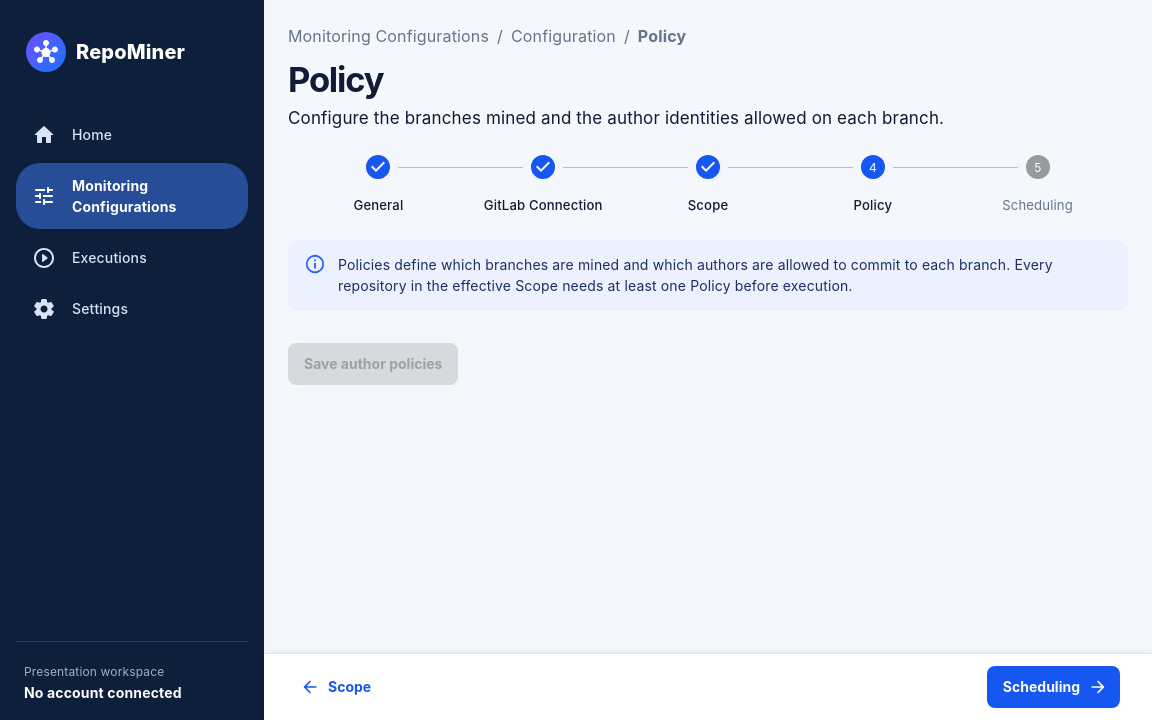
Scenario: returns a newly created configuration flow to the list only after final schedule save succeeds
The width and height of the screenshot is (1152, 720).
Expected: the heading "Policy" is shown, [288,60,383,100]
Click the button with aria-label "Next step: Scheduling": {"x": 1053, "y": 687} [987,666,1120,708]
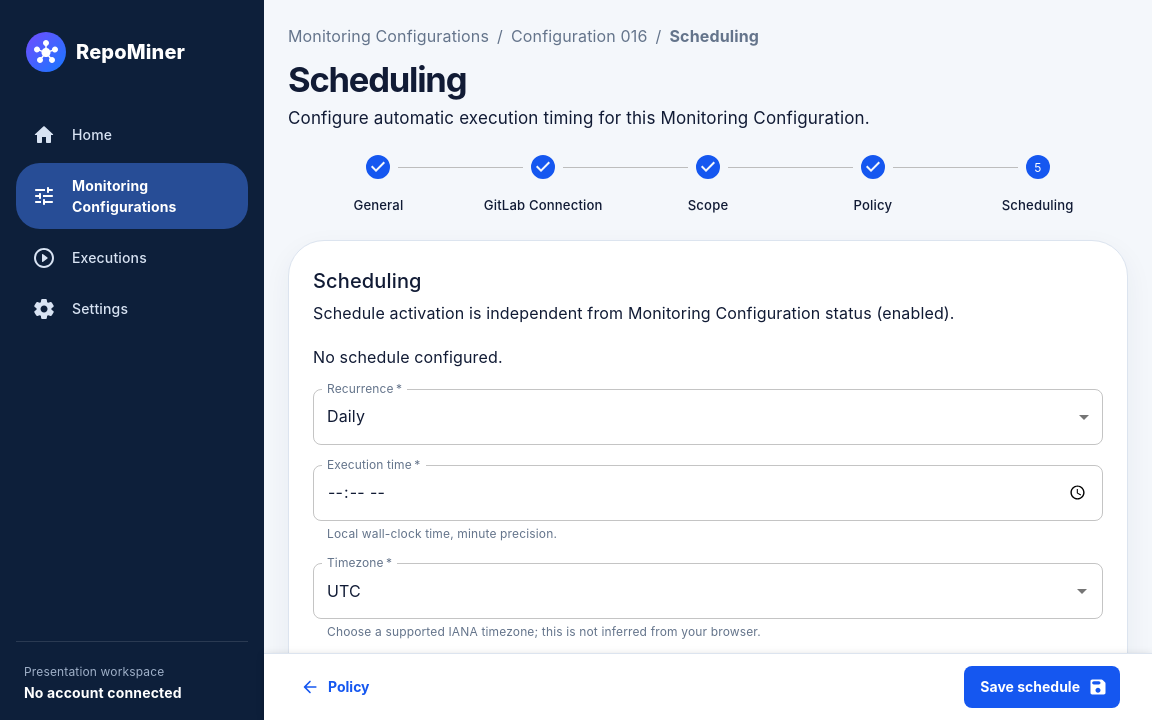
Expected: the dropdown named "Recurrence" is shown, [327,406,365,426]
In the time field labelled "Execution time *": {"x": 708, "y": 493} [313,465,1103,521], type "01:00"
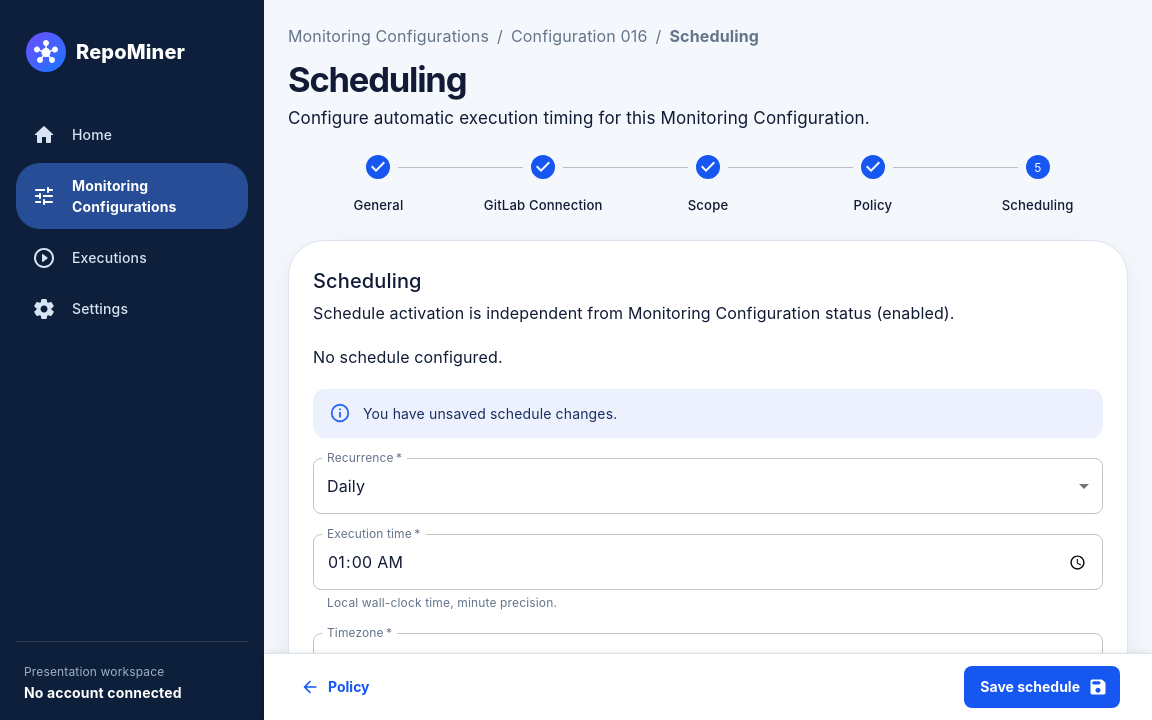
Click the button "Save schedule": {"x": 1042, "y": 687} [964,666,1120,708]
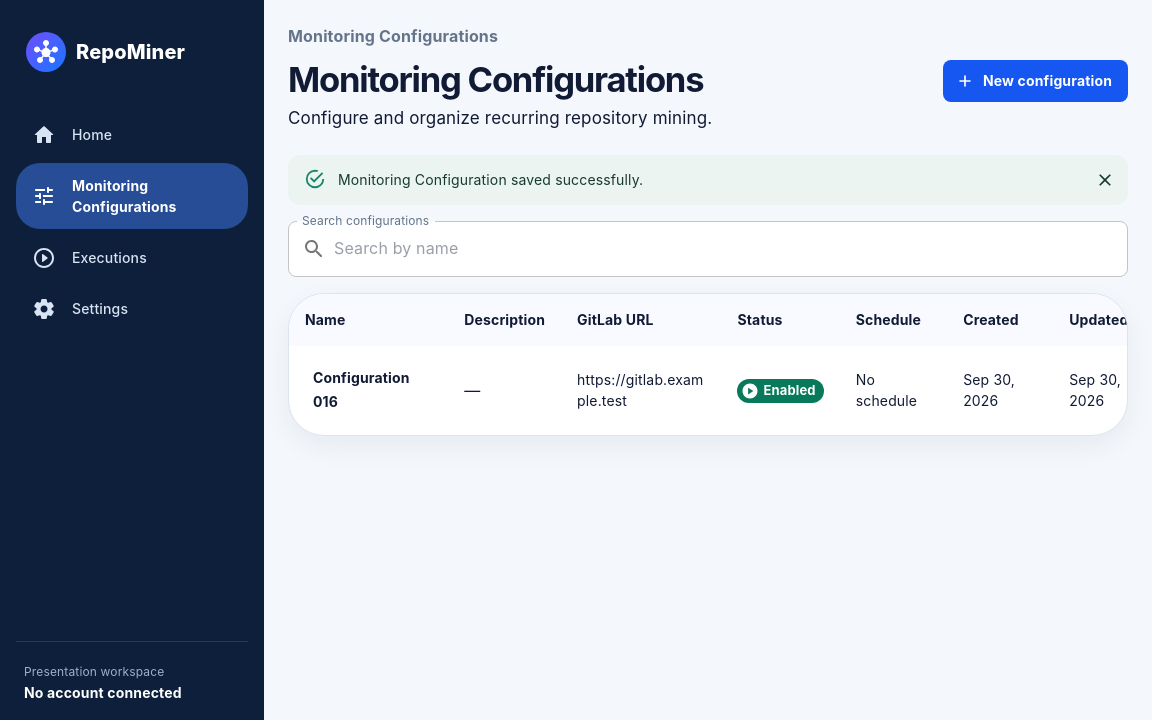
Expected: the text "Monitoring Configuration saved successfully." is shown, [338,171,643,188]
